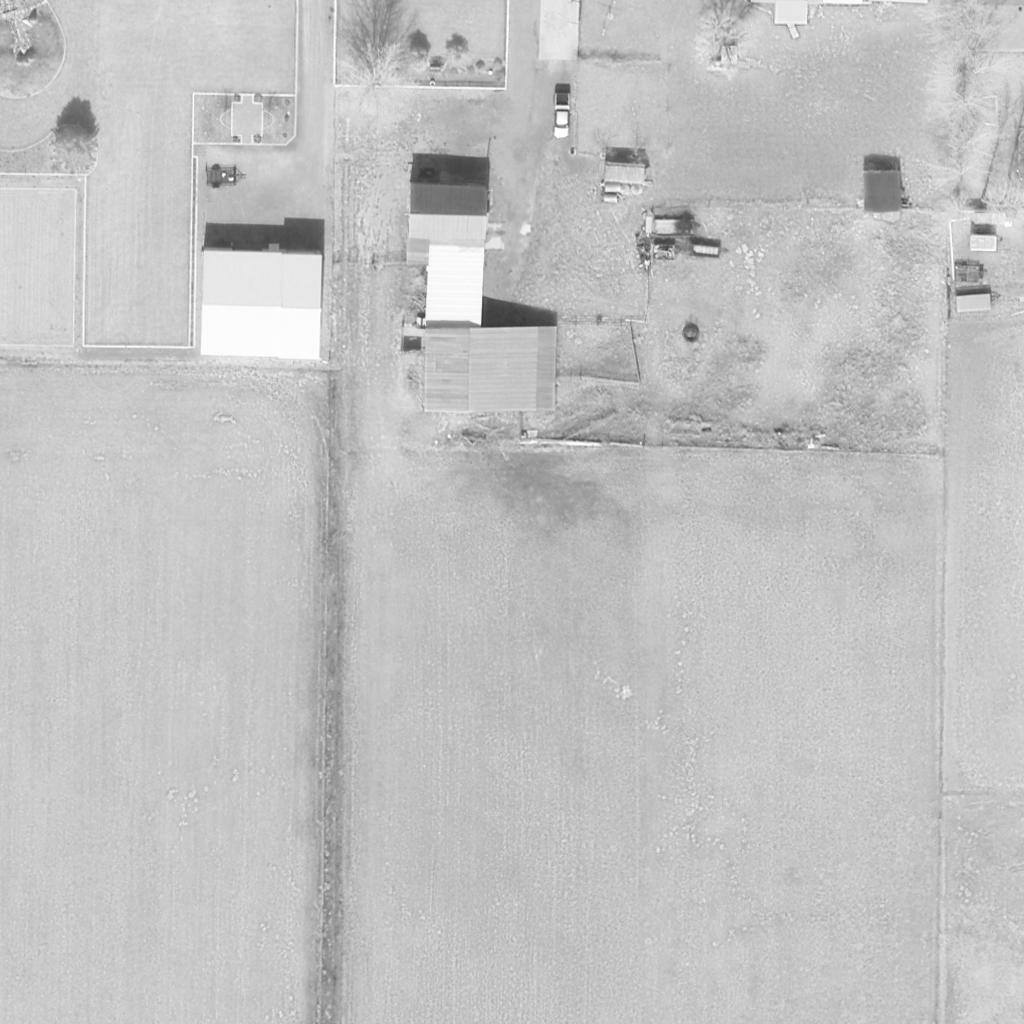vehicle: (554, 91, 570, 139)
